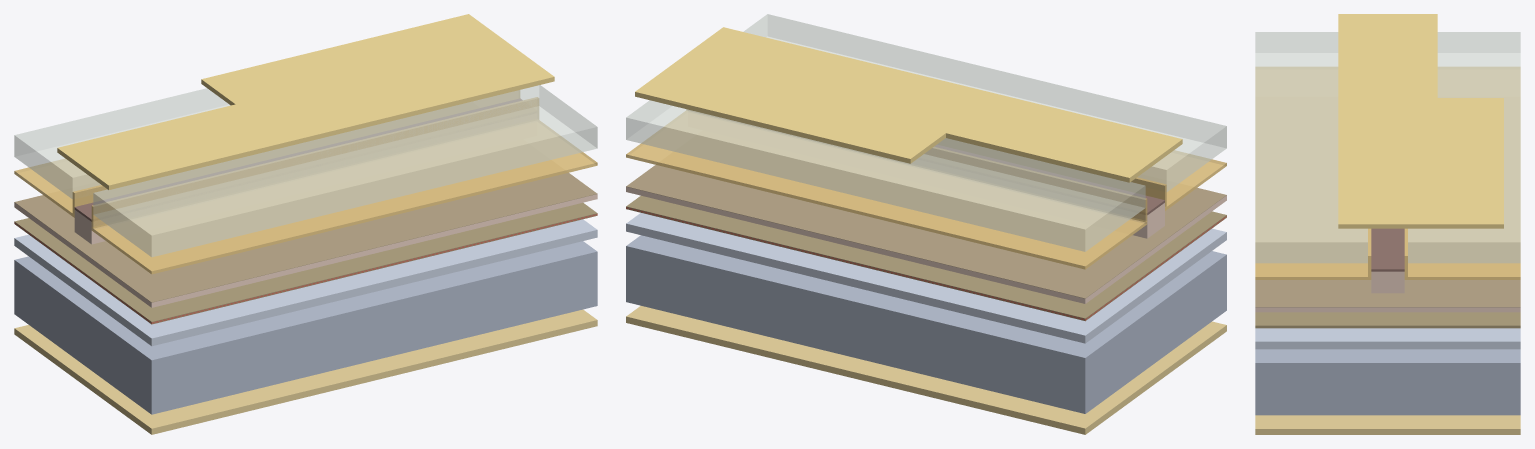
Rendered from stack-ridge-x.glb.
The picture shows the model from 3 angles, left to right: view 1: azimuth 30°, elevation 25°; view 2: azimuth 150°, elevation 25°; view 3: azimuth 270°, elevation 25°; orthographic projection. The views are drawn at different scales.
Parts seen in each view (by area): view 1: sin, bcb, sub, pmetal, estop, ninp, nmetal, sch, pinp, cap, qw; view 2: bcb, sub, sin, pmetal, estop, ninp, nmetal, sch, pinp, qw, cap; view 3: bcb, sin, pmetal, sub, estop, ninp, nmetal, sch, pinp, cap.
Boxes of the visible parts, x1,y1,x2,y2 form: sin: (14,90,597,274); bcb: (14,85,597,256); sub: (14,241,597,414); pmetal: (57,14,554,189); estop: (14,172,597,302); ninp: (14,219,597,346); nmetal: (14,309,597,434); sch: (14,203,597,324); pinp: (14,194,597,307); cap: (74,98,522,221); qw: (14,214,597,323); bcb: (626,14,1226,251); sub: (626,235,1226,413); sin: (626,109,1226,269); pmetal: (635,27,1182,182); estop: (626,165,1226,298); ninp: (626,213,1226,343); nmetal: (626,306,1226,434); sch: (626,195,1226,321); pinp: (626,186,1226,303); qw: (626,207,1226,320); cap: (934,145,1164,215); bcb: (1255,32,1520,263); sin: (1255,67,1520,279); pmetal: (1338,14,1503,228); sub: (1255,349,1520,415); estop: (1255,280,1520,307); ninp: (1255,328,1520,349); nmetal: (1255,415,1520,434); sch: (1255,312,1520,328); pinp: (1255,271,1520,312); cap: (1371,228,1404,271).
Bounding box in the file's own units: 30 × 14.02 × 16.
